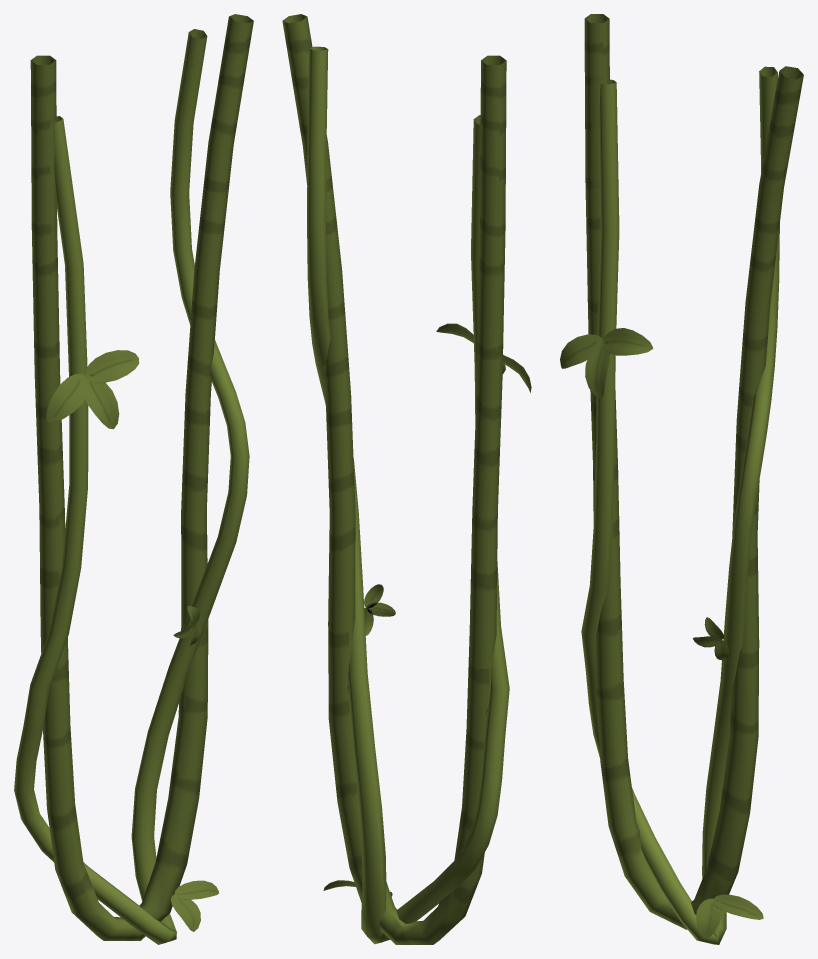
Rendered from Vine00.fbx.
3 views of the same model, side by side, from view 1: azimuth 30°, elevation 25°; view 2: azimuth 150°, elevation 25°; view 3: azimuth 330°, elevation 25° (orthographic). The views are drawn at different scales.
Visible parts, largest first — view 1: Vine00_LOD0; view 2: Vine00_LOD0; view 3: Vine00_LOD0.
Part boxes in pixels (x1,y1,x2,y2): Vine00_LOD0: (14, 14, 253, 944); Vine00_LOD0: (282, 14, 531, 944); Vine00_LOD0: (560, 14, 803, 944).
Size of what is drawn, in the model's own units: 77.46 by 300 by 35.14.
1 material, 1 textured.
